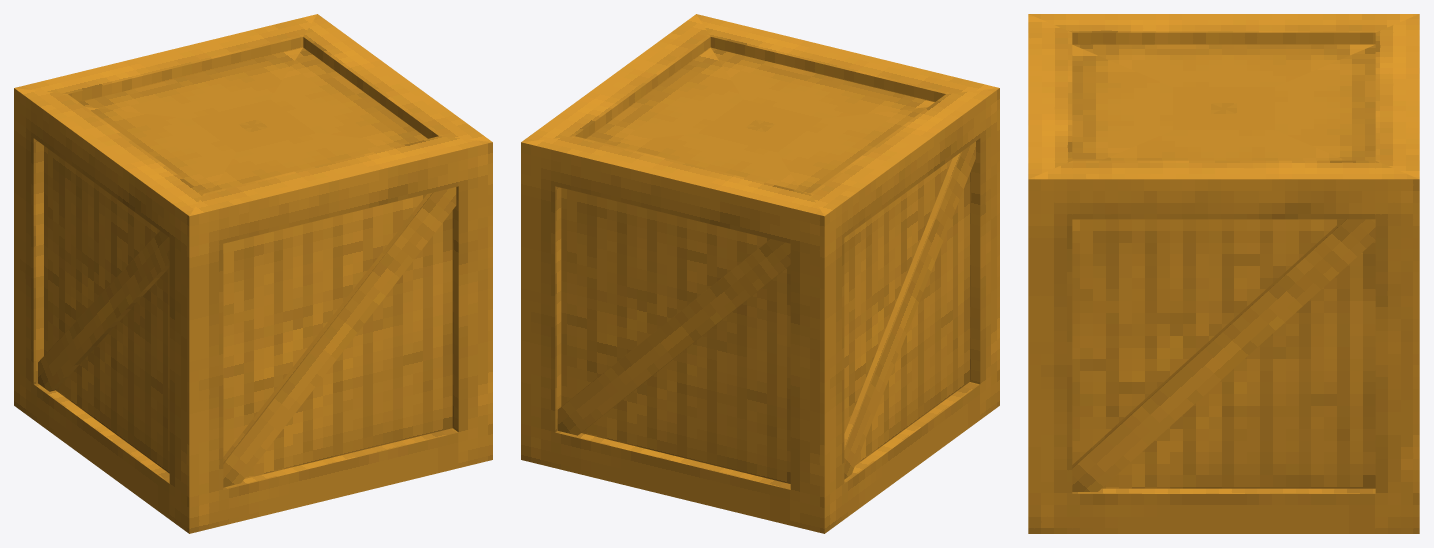
Rendered from crate.glb.
The picture shows the model from 3 angles, left to right: view 1: azimuth 30°, elevation 25°; view 2: azimuth 150°, elevation 25°; view 3: azimuth 270°, elevation 25°; orthographic projection. The views are drawn at different scales.
Visible parts, largest first — view 1: Cube; view 2: Cube; view 3: Cube.
Boxes of the visible parts, box(x1,y1,x2,y2) form: Cube: box(14, 14, 492, 533); Cube: box(521, 14, 999, 533); Cube: box(1028, 14, 1419, 533).
Size of the model in its own units: 2 by 2 by 2.
1 material, 1 textured.
